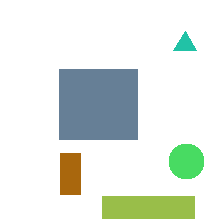circle: (169, 144, 203, 178)
rectangle: (59, 69, 137, 139), (102, 196, 194, 218), (60, 153, 80, 194)
triangle: (173, 31, 196, 50)
